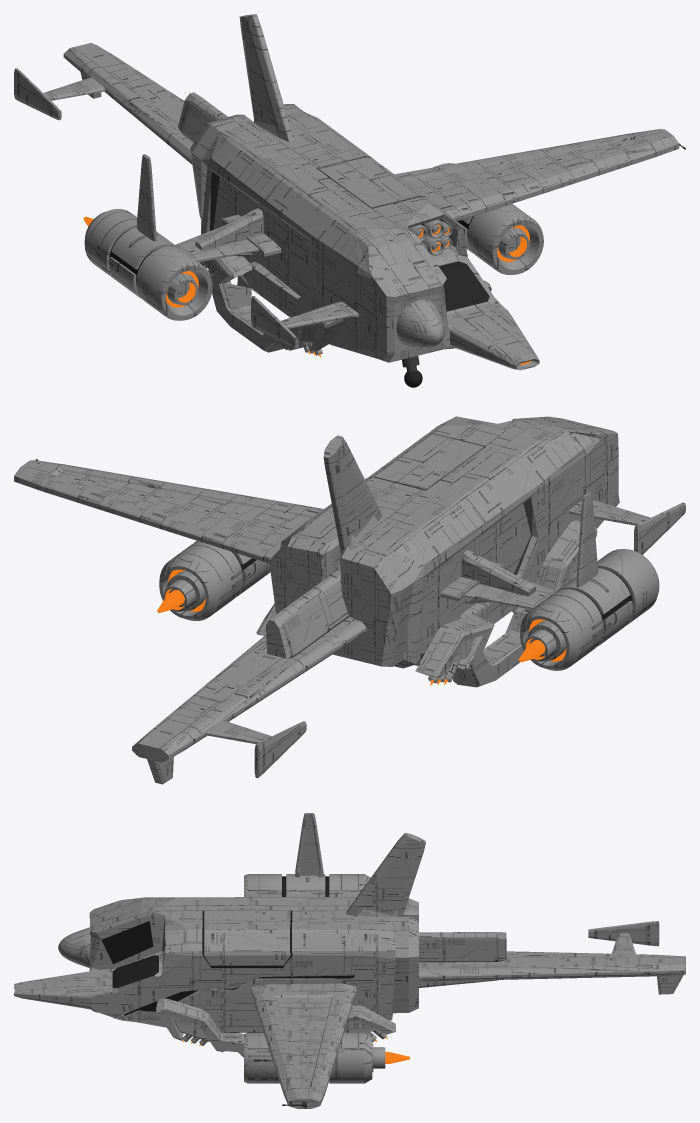
The picture shows the model from 3 angles, top to bottom: view 1: azimuth 30°, elevation 25°; view 2: azimuth 150°, elevation 25°; view 3: azimuth 270°, elevation 25°; orthographic projection. The views are drawn at different scales.
Visible parts, largest first — view 1: Cube.008, Cylinder.002, Cylinder, Cube.009, Cylinder.008; view 2: Cube.008, Cylinder.002, Cylinder; view 3: Cube.008, Cylinder, Cylinder.002, Cube.009.
Boxes of the visible parts, <box> form: Cube.008: <box>14,14,679,370</box>; Cylinder.002: <box>83,208,212,320</box>; Cylinder: <box>433,163,543,274</box>; Cube.009: <box>396,299,444,348</box>; Cylinder.008: <box>409,219,452,255</box>; Cube.008: <box>14,416,685,784</box>; Cylinder.002: <box>518,549,659,670</box>; Cylinder: <box>157,541,270,621</box>; Cube.008: <box>14,813,685,1108</box>; Cylinder: <box>244,1032,409,1083</box>; Cylinder.002: <box>244,874,370,896</box>; Cube.009: <box>58,927,90,967</box>.
Size of the model in its own units: 6.73 by 2.95 by 8.83.
9 materials, 1 textured.
